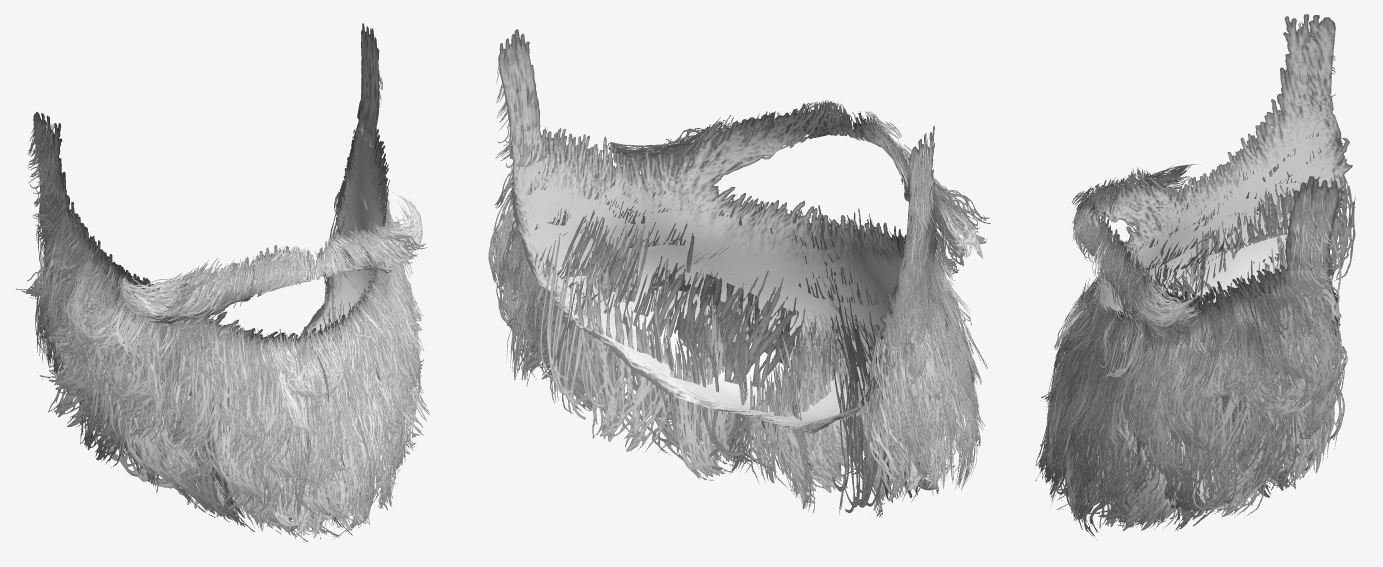
File: beard_111.glb
The picture shows the model from 3 angles, left to right: view 1: azimuth 30°, elevation 25°; view 2: azimuth 150°, elevation 25°; view 3: azimuth 270°, elevation 25°; orthographic projection. The views are drawn at different scales.
Parts seen in each view (by area): view 1: beard_cards, beard_cap; view 2: beard_cards, beard_cap; view 3: beard_cards, beard_cap.
Boxes of the visible parts, x1,y1,x2,y2 form: beard_cards: (16,49,429,542); beard_cap: (33,23,389,421); beard_cards: (488,55,990,517); beard_cap: (498,29,938,434); beard_cards: (1035,20,1355,539); beard_cap: (1078,14,1352,439).
Bounding box in the file's own units: 0.1648 × 0.1754 × 0.1251.
Materials: 2 (2 with a texture image).
